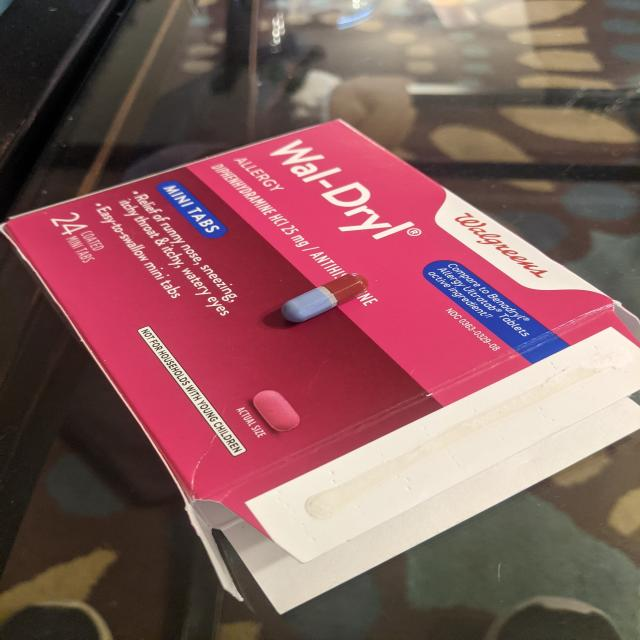non-organic waste: (280, 272, 369, 323)
